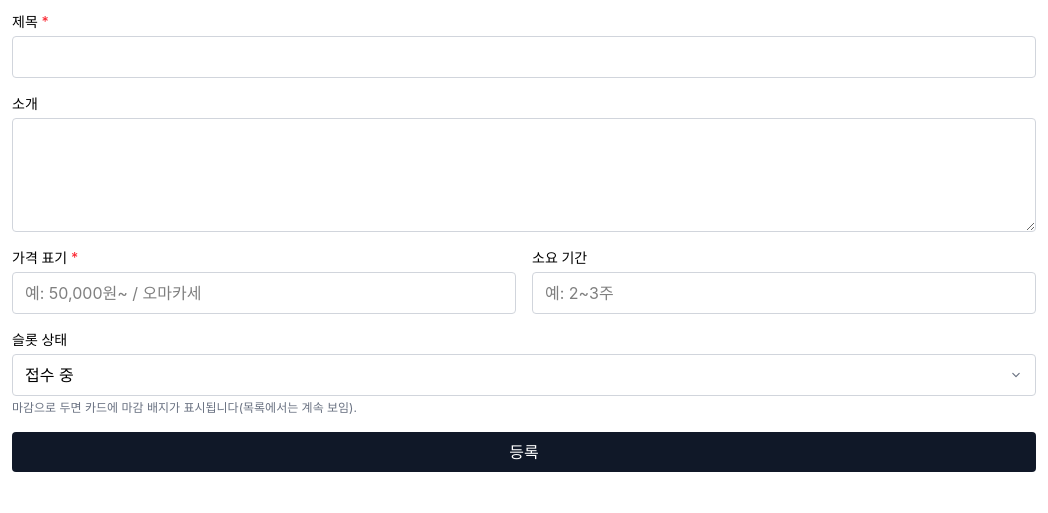
Test: CommissionForm › 제목이 비어 있으면 제출되지 않는다
This screenshot has width=1048, height=513.
Step 1. Type "50,000원~" into the field labelled "가격 표기 *" → (264, 293), box [12,272,516,314]
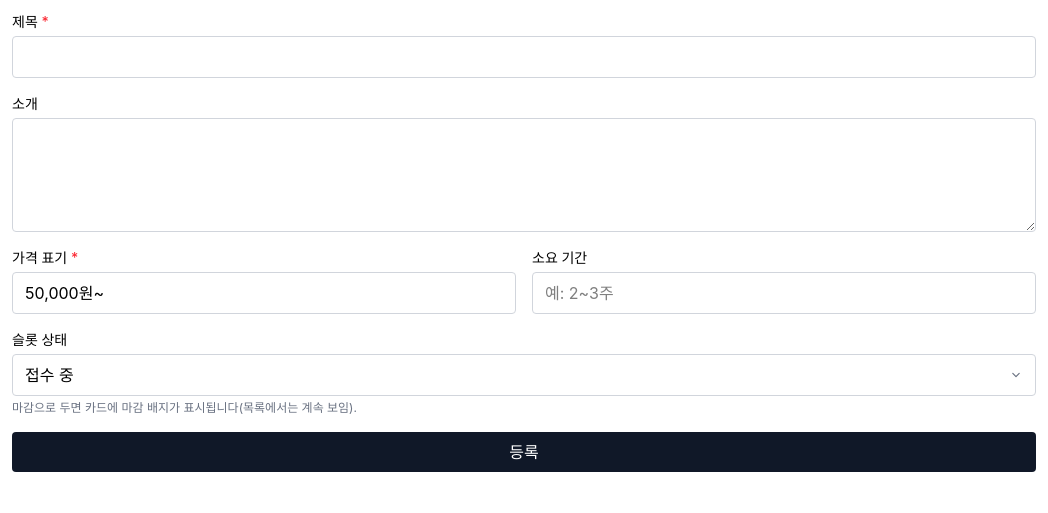
Step 2. Click the button "등록" → (524, 452), box [12,432,1036,472]
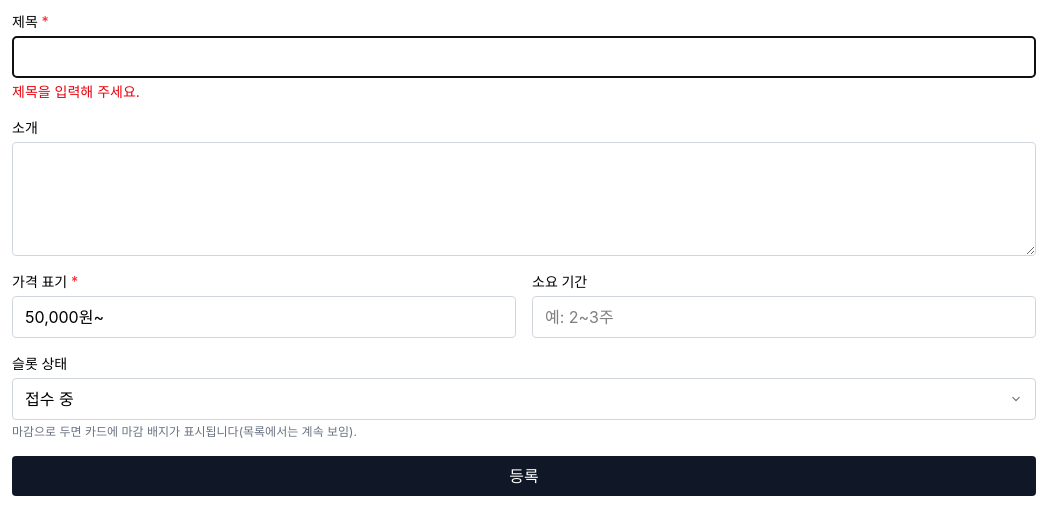
Now the text "제목을 입력해 주세요." is shown, box [12,83,140,100]
